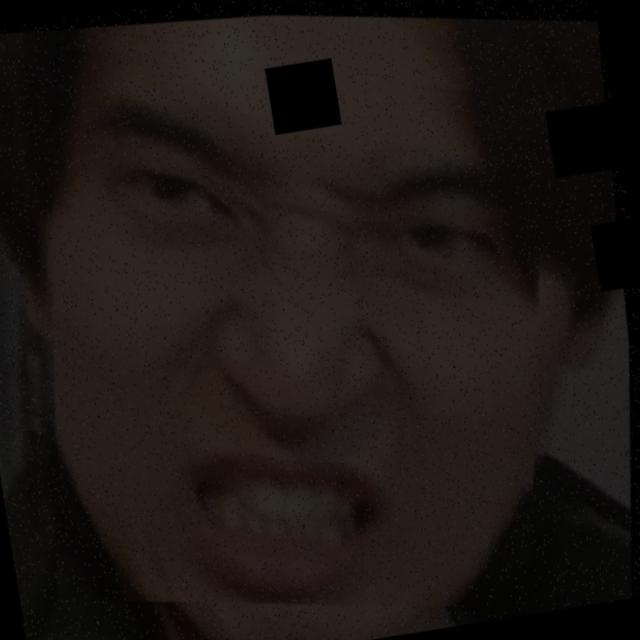Angry: (60, 39, 605, 640)
